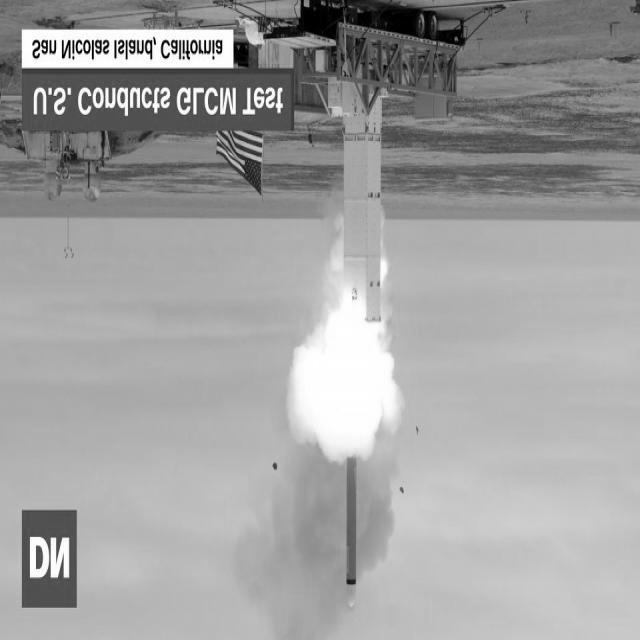Missile: (340, 448, 362, 620)
